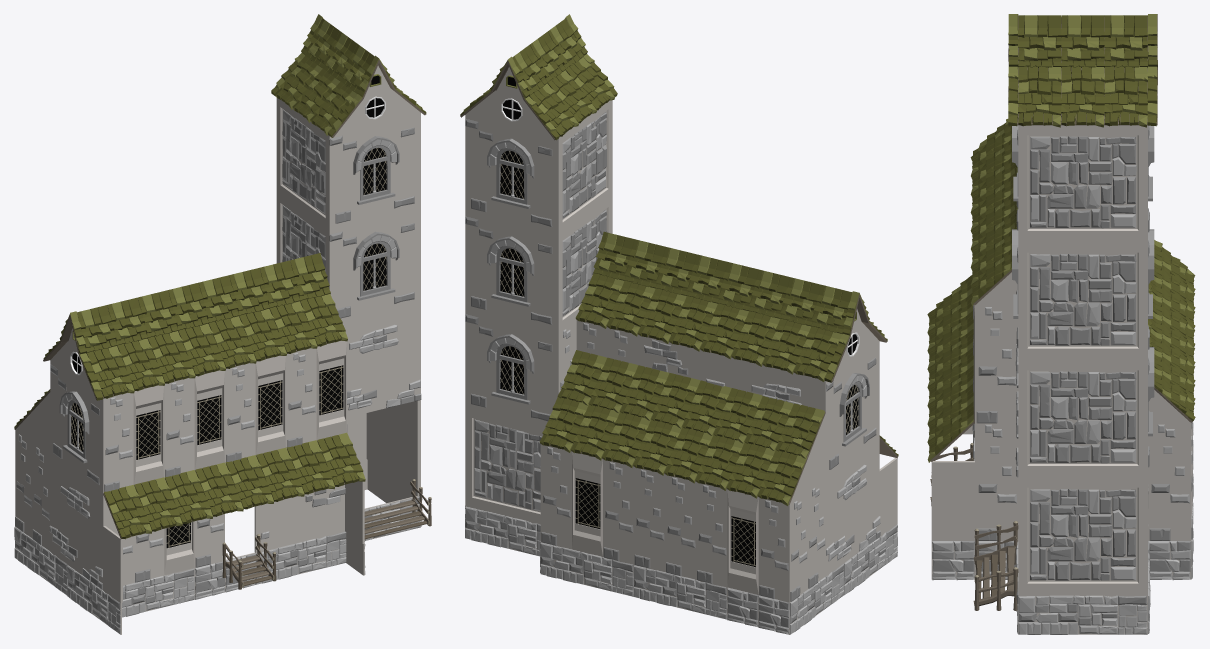
The model's file is HOUSE_16_PARTS.fbx.
The picture shows the model from 3 angles, left to right: view 1: azimuth 30°, elevation 25°; view 2: azimuth 150°, elevation 25°; view 3: azimuth 270°, elevation 25°; orthographic projection. The views are drawn at different scales.
Visible parts, largest first — view 1: WINDOW_03_31, WINDOW_03_30, WALL_03_2, WALL_03_3, WINDOW_03_29, WALL_02_6, WALL_01_2, WALL_02_4, WINDOW_04_5, WALL_06_12, WALL_06_11, WALL_06_9 (+57 smaller); view 2: WINDOW_03_33, WINDOW_03_34, WINDOW_03_32, WALL_02_9, WALL_02_6, WALL_03_3, WINDOW_03_29, WALL_02_8, WALL_06_23, WALL_06_21, WALL_06_22, WALL_06_18 (+60 smaller); view 3: WALL_02_5, WALL_02_3, WALL_02_7, WALL_02_4, FOUNDATION_03_5, WALL_06_14, WALL_06_13, WALL_06_3, STAIRS_01_3, ROOF_BASE_25, ROOF_BASE_27, ROOF_BASE_23 (+45 smaller).
Boxes of the visible parts, x1,y1,x2,y2 form: WINDOW_03_31: (329,112,420,230); WINDOW_03_30: (329,208,420,322); WALL_03_2: (342,304,421,417); WALL_03_3: (49,456,103,589); WINDOW_03_29: (50,360,104,493); WALL_02_6: (276,98,329,230); WALL_01_2: (254,484,345,552); WALL_02_4: (366,400,420,495); WINDOW_04_5: (133,385,164,485); WALL_06_12: (286,348,316,448); WALL_06_11: (225,363,255,463); WALL_06_9: (103,393,133,492); WINDOW_03_33: (465,212,558,331); WINDOW_03_34: (465,115,559,234); WINDOW_03_32: (465,310,558,427); WALL_02_9: (465,408,545,523); WALL_02_6: (555,100,612,235); WALL_03_3: (825,439,880,575); WINDOW_03_29: (825,341,879,477); WALL_02_8: (555,196,612,332); WALL_06_23: (758,497,790,602); WALL_06_21: (665,474,696,579); WALL_06_22: (696,482,727,586); WALL_06_18: (540,444,571,548); WALL_02_5: (1018,242,1147,360); WALL_02_3: (1018,360,1147,477); WALL_02_7: (1018,125,1147,242); WALL_02_4: (1018,478,1147,595); FOUNDATION_03_5: (1018,595,1147,634); WALL_06_14: (1148,423,1191,540); WALL_06_13: (975,305,1018,423); WALL_06_3: (975,423,1018,540); STAIRS_01_3: (973,521,1018,610); ROOF_BASE_25: (1061,65,1104,127); ROOF_BASE_27: (1104,65,1147,127); ROOF_BASE_23: (1018,65,1061,127).
Bounding box in the file's own units: 1133 × 1514 × 620.
